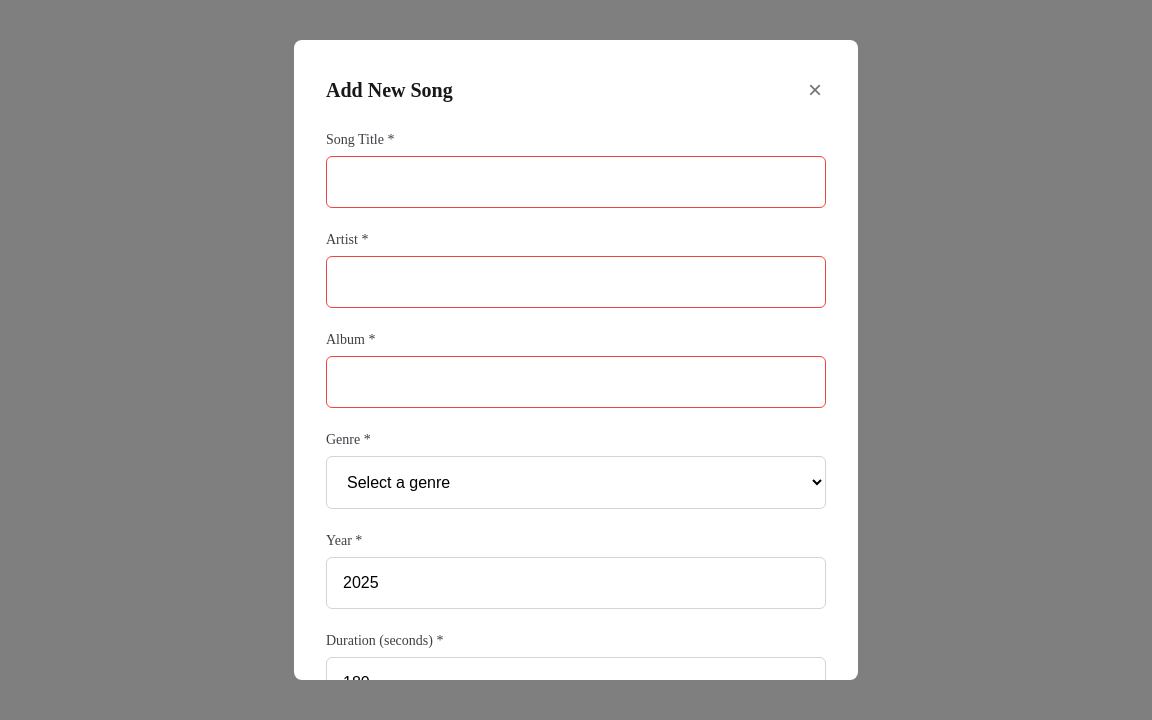
Scenario: SongModal Component › validates required fields
Clear the field labelled "Song Title *": (576, 182) [326,156,826,208]
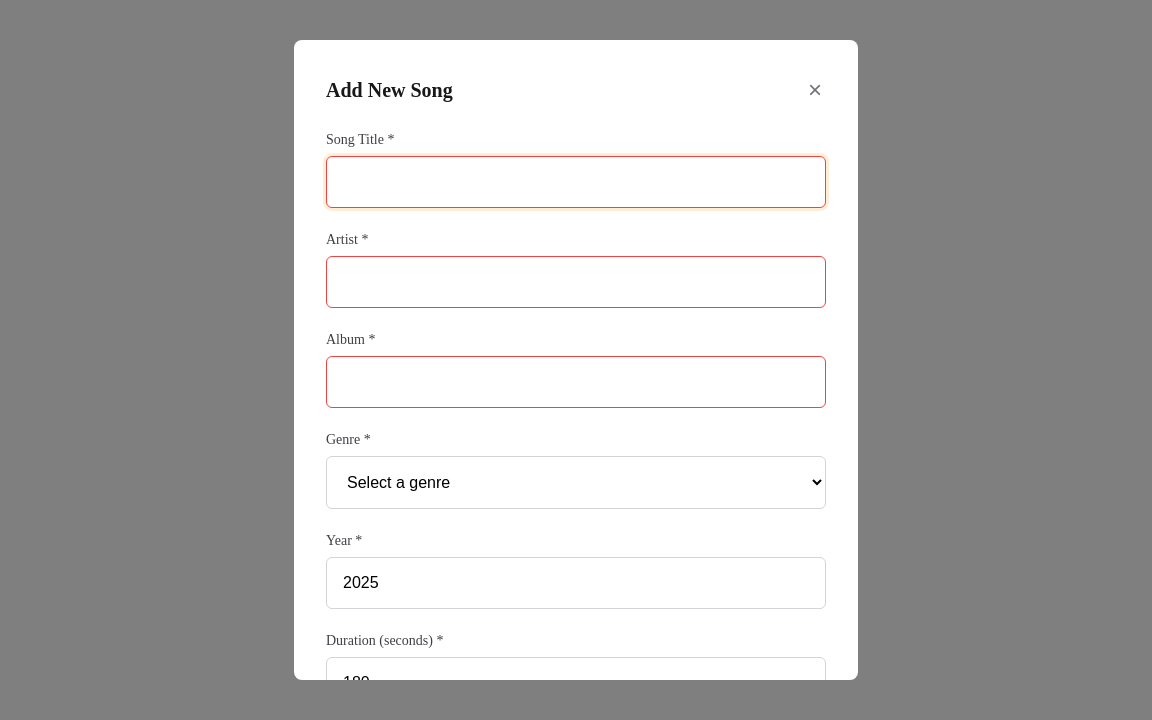
Clear the field labelled "Artist *": (576, 282) [326,256,826,308]
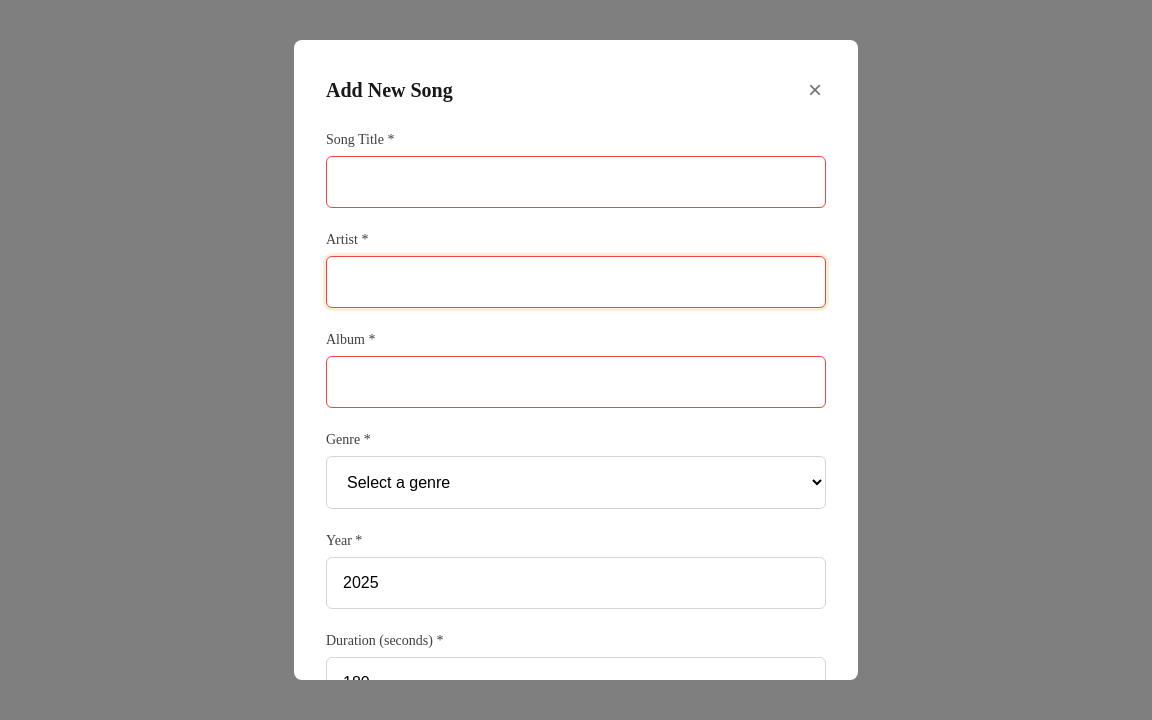
Clear the field labelled "Album *": (576, 382) [326,356,826,408]
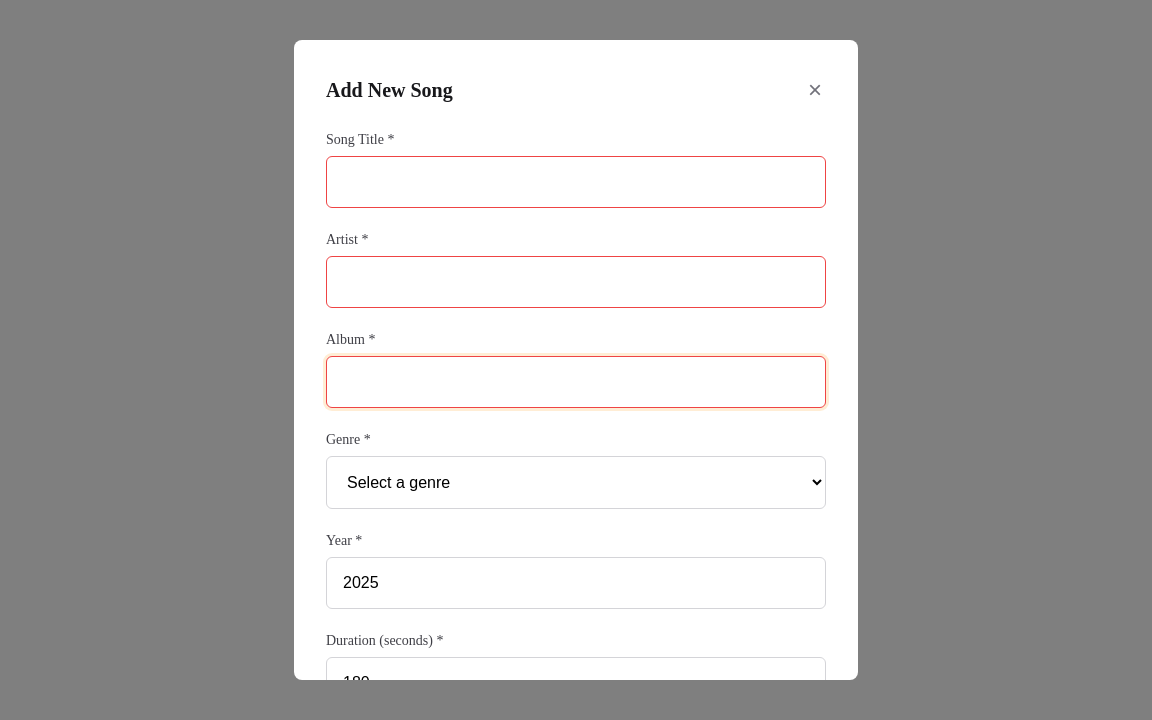
Select "Select a genre" in the dropdown labelled "Genre *": (576, 482) [326,456,826,509]
(page scrolled)
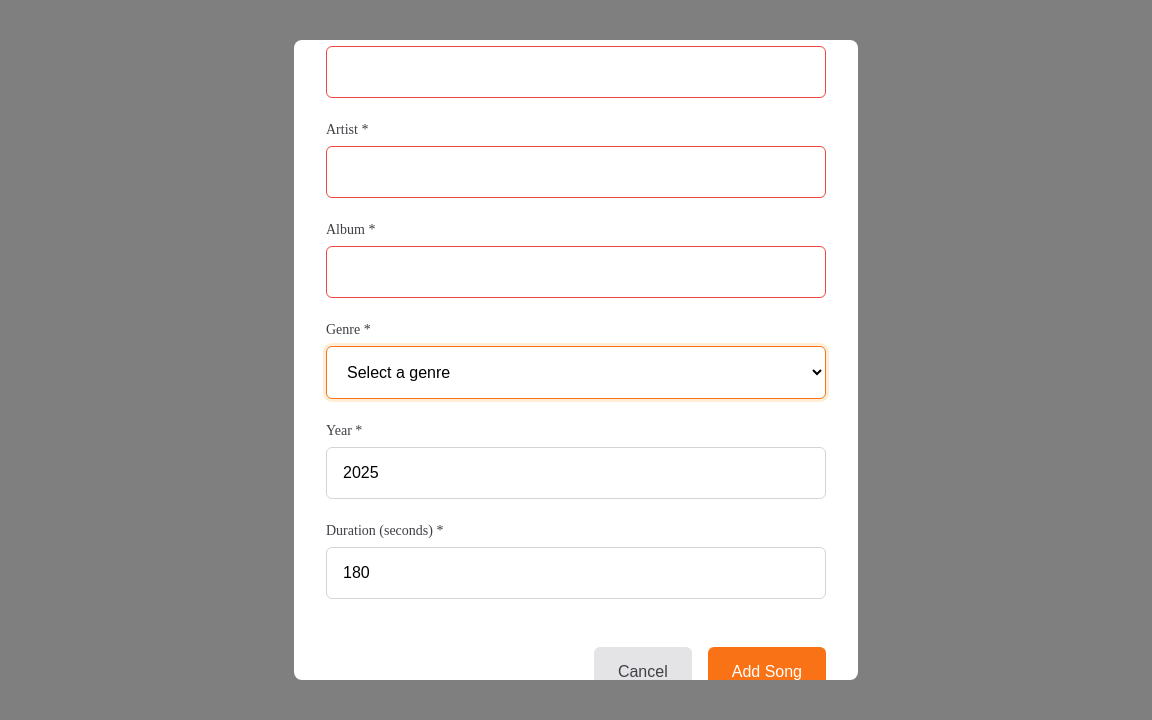
Note: Try to submit the form using form submission
Submit the form labelled "Song Title *", box [326,22,826,697]
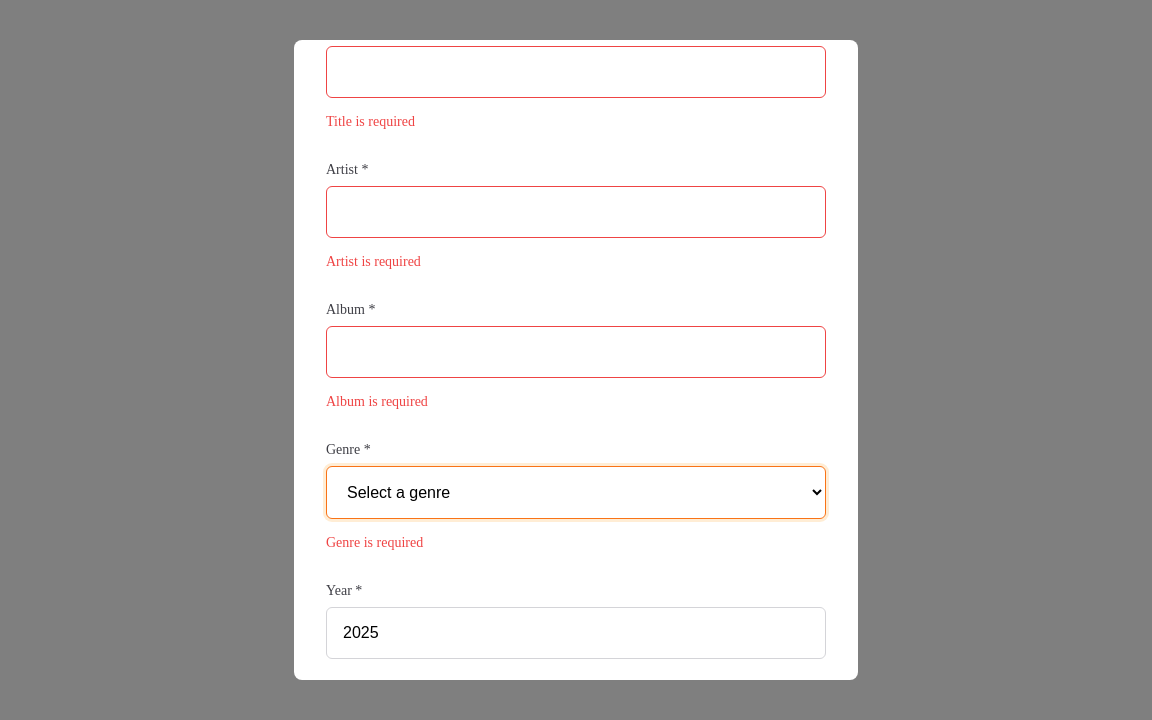
Check: the text "Title is required" is shown, box [326,114,415,129]
Check: the text "Artist is required" is shown, box [326,254,421,269]
Check: the text "Album is required" is shown, box [326,394,428,409]
